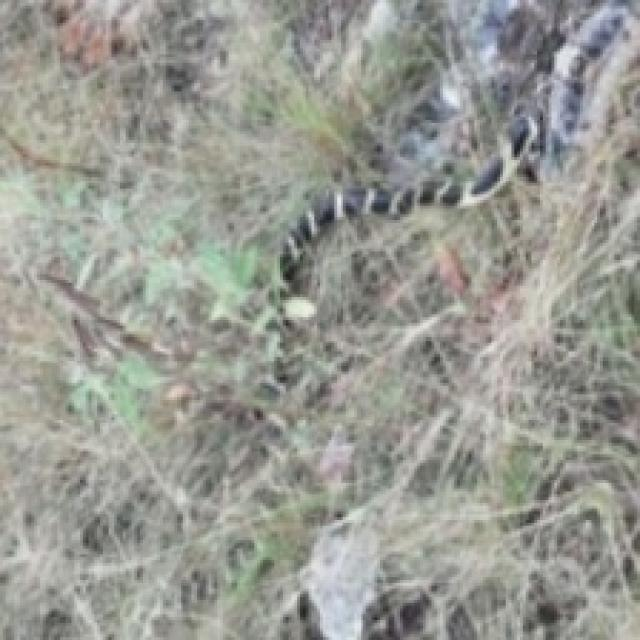king cobra: (280, 0, 637, 300), (300, 520, 446, 637)
